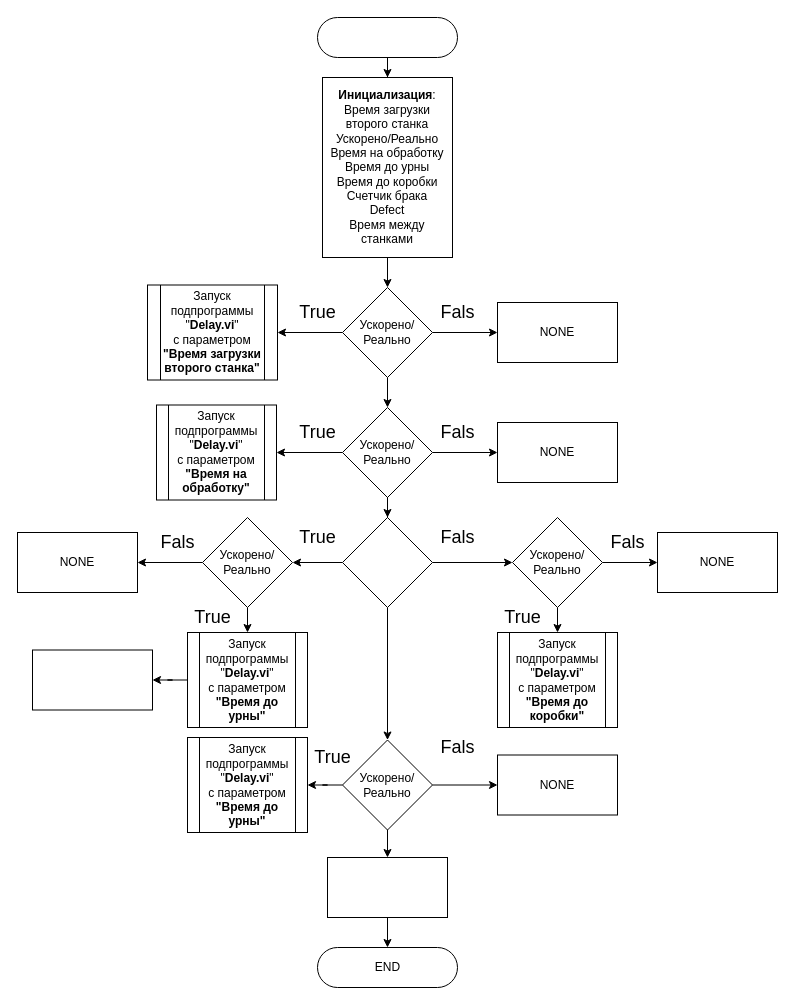
This 795x1005 diagram has some shape labels left out. The shapes that lost their labels are listed below. From the top down, each one's centre as x and y in pixels, then its label:
[387,37]: START
[387,562]: Defect ?
[92,679]: Увеличение значения "Счетчик брака" на 1
[387,887]: Брак = Счетчик брака
